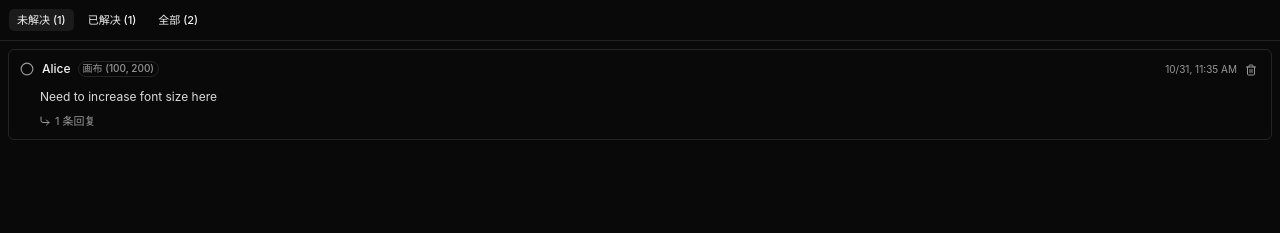
CommentsPanel › renders threads and filters by open and resolved
This screenshot has width=1280, height=233.
Expected: the button "Alice" is shown, [41, 60, 72, 78]
Expected: the button "Need to increase font size here" is shown, [19, 88, 1261, 106]
Click the button "已解决 (1)".
click(112, 20)  # box [79, 8, 145, 32]
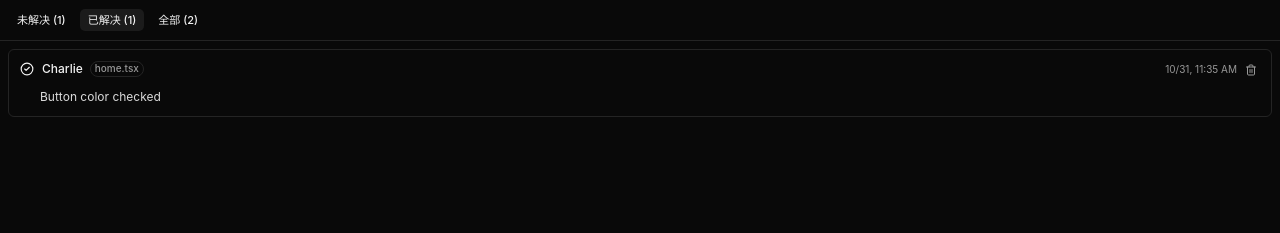
Expected: the button "Charlie" is shown, [41, 60, 84, 78]
Expected: the button "Button color checked" is shown, [19, 88, 1261, 106]
Expected: the button "Need to increase font size here" is gone
Click the button "全部 (2)".
click(178, 20)  # box [149, 8, 207, 32]
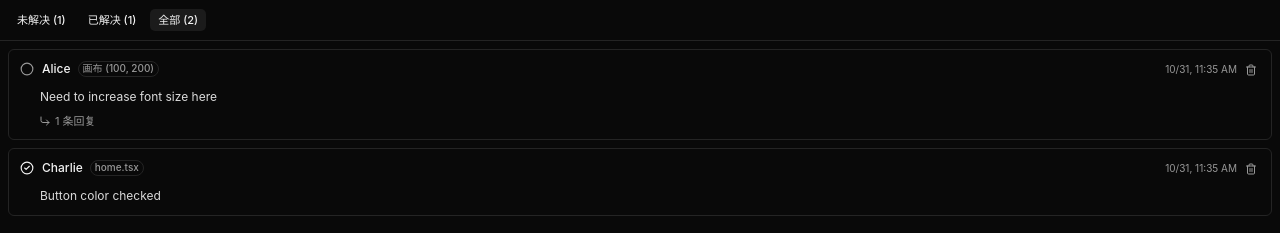
Expected: the button "Charlie" is shown, [41, 159, 84, 177]
Expected: the button "Alice" is shown, [41, 60, 72, 78]
